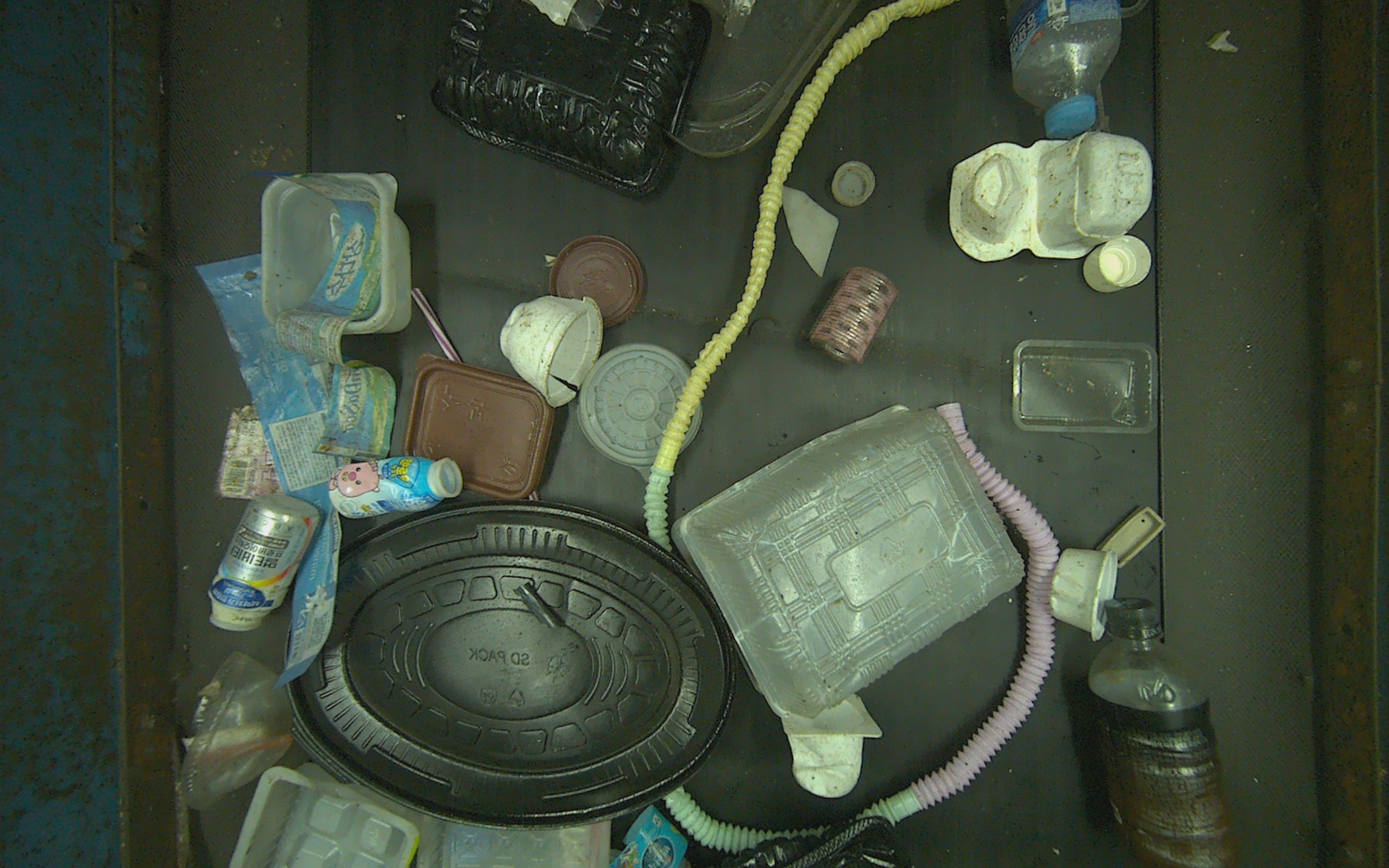PET: (1088, 598, 1241, 868)
PET-C: (180, 650, 294, 811), (1012, 339, 1158, 433)
PP-B: (284, 499, 737, 830)
PS-W: (949, 132, 1153, 262), (208, 493, 319, 631), (500, 295, 603, 408), (328, 456, 462, 518), (1049, 548, 1117, 642)
